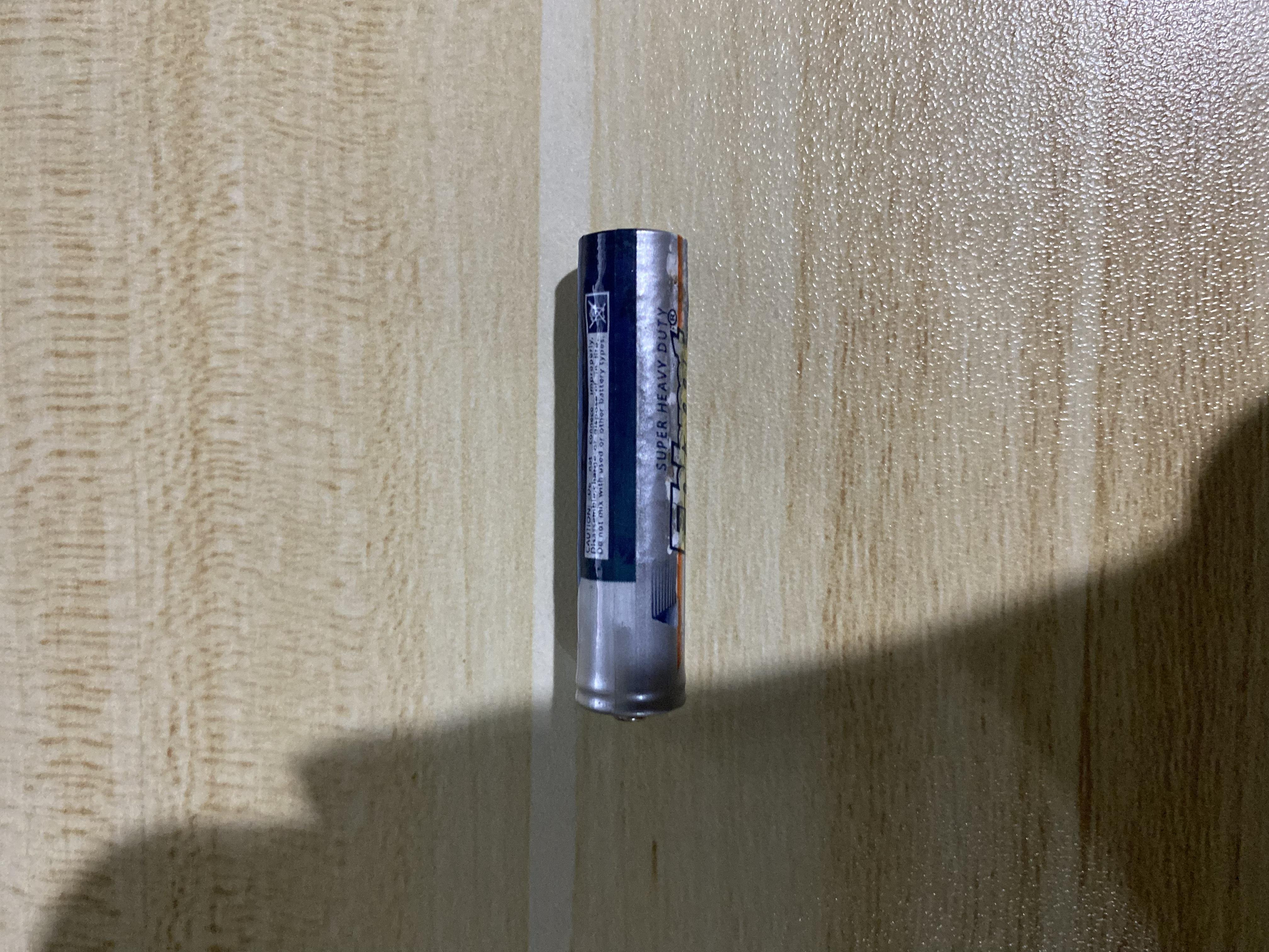AAA: (570, 223, 691, 731)
